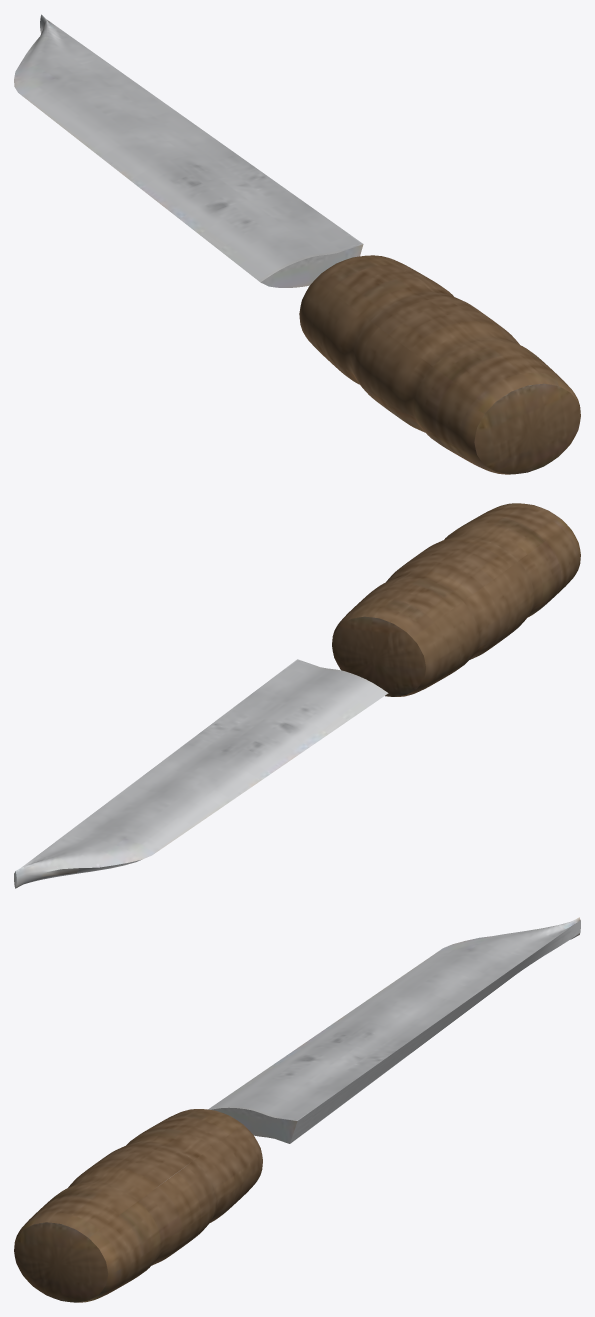
The model's file is boot_knife.glb.
The picture shows the model from 3 angles, top to bottom: view 1: azimuth 30°, elevation 25°; view 2: azimuth 150°, elevation 25°; view 3: azimuth 330°, elevation 25°; orthographic projection. The views are drawn at different scales.
Visible parts, largest first — view 1: boot_knife; view 2: boot_knife; view 3: boot_knife.
Part boxes in pixels (x1,y1,x2,y2): boot_knife: [14, 14, 580, 474]; boot_knife: [14, 503, 580, 888]; boot_knife: [14, 917, 580, 1302].
Size of the model in its own units: 0.0331 by 0.0258 by 0.2359.
Materials: 1 (1 with a texture image).
